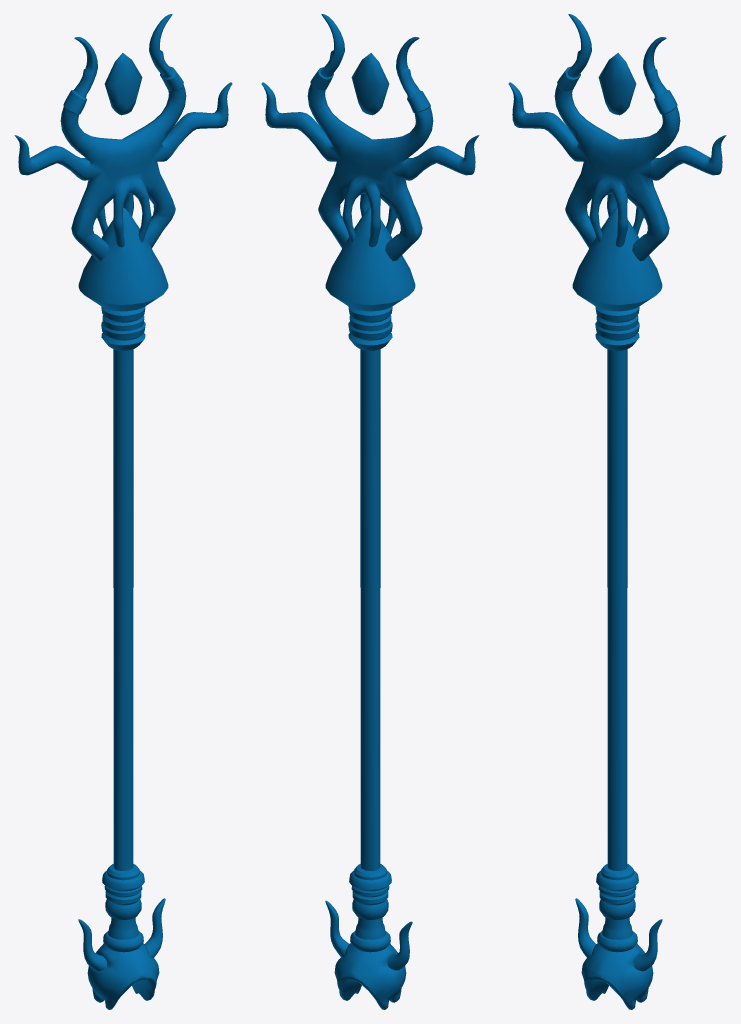
Rendered from Orc_Staff.fbx.
3 renders of one model, left to right at view 1: azimuth 30°, elevation 25°; view 2: azimuth 150°, elevation 25°; view 3: azimuth 330°, elevation 25°, orthographic.
Parts seen in each view (by area): view 1: Warlock_mob_weapon_low; view 2: Warlock_mob_weapon_low; view 3: Warlock_mob_weapon_low.
Boxes of the visible parts, left/top/right/bottom form: Warlock_mob_weapon_low: left=14, top=14, right=232, bottom=1009; Warlock_mob_weapon_low: left=261, top=14, right=479, bottom=1009; Warlock_mob_weapon_low: left=508, top=14, right=726, bottom=1009.
Bounding box in the file's own units: 51.54 × 221 × 18.54.
